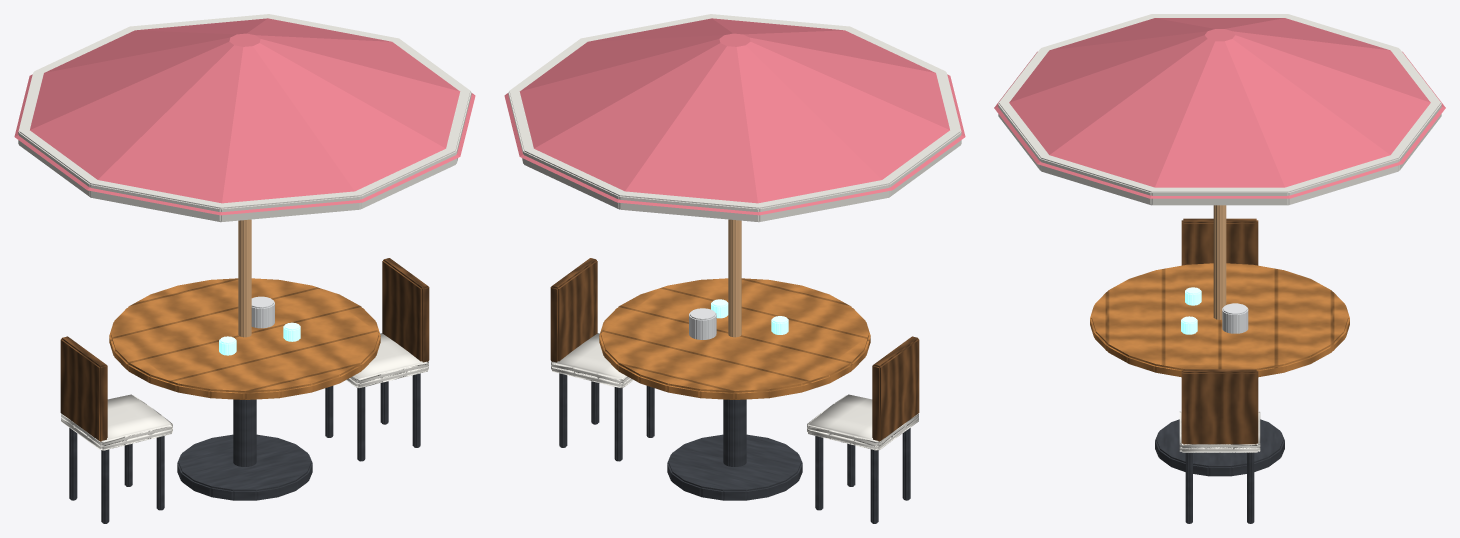
Rendered from furn_patio_set.glb.
The picture shows the model from 3 angles, left to right: view 1: azimuth 30°, elevation 25°; view 2: azimuth 150°, elevation 25°; view 3: azimuth 270°, elevation 25°; orthographic projection. The views are drawn at different scales.
Visible parts, largest first — view 1: furn_patio_set; view 2: furn_patio_set; view 3: furn_patio_set.
Boxes of the visible parts, x1,y1,x2,y2 form: furn_patio_set: (14,14,475,523); furn_patio_set: (504,14,965,523); furn_patio_set: (994,14,1445,523).
Size of the model in its own units: 2.24 by 2.39 by 2.36.
8 materials, 3 textured.
